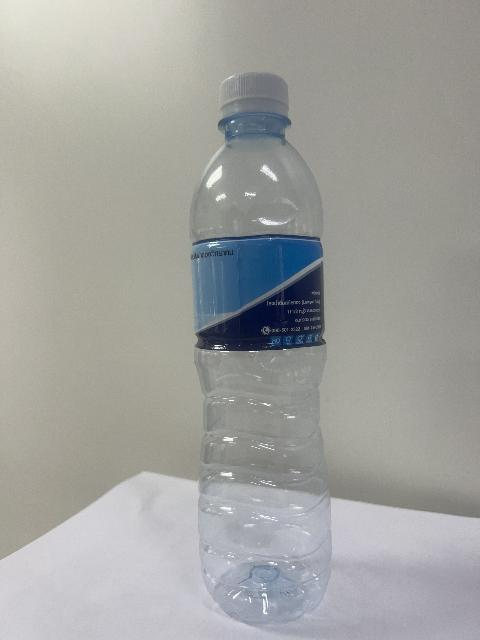bottle: (191, 73, 331, 623)
